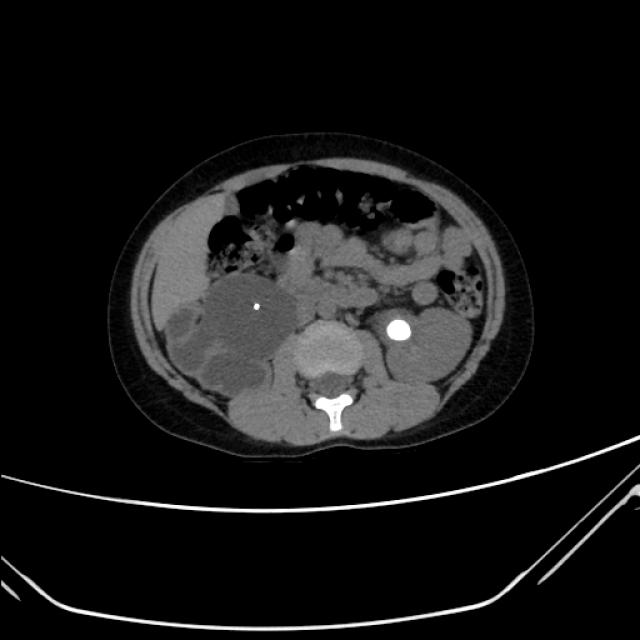kidney: (209, 271, 297, 357), (376, 307, 473, 381)
stone: (384, 315, 414, 341), (251, 300, 262, 310)
